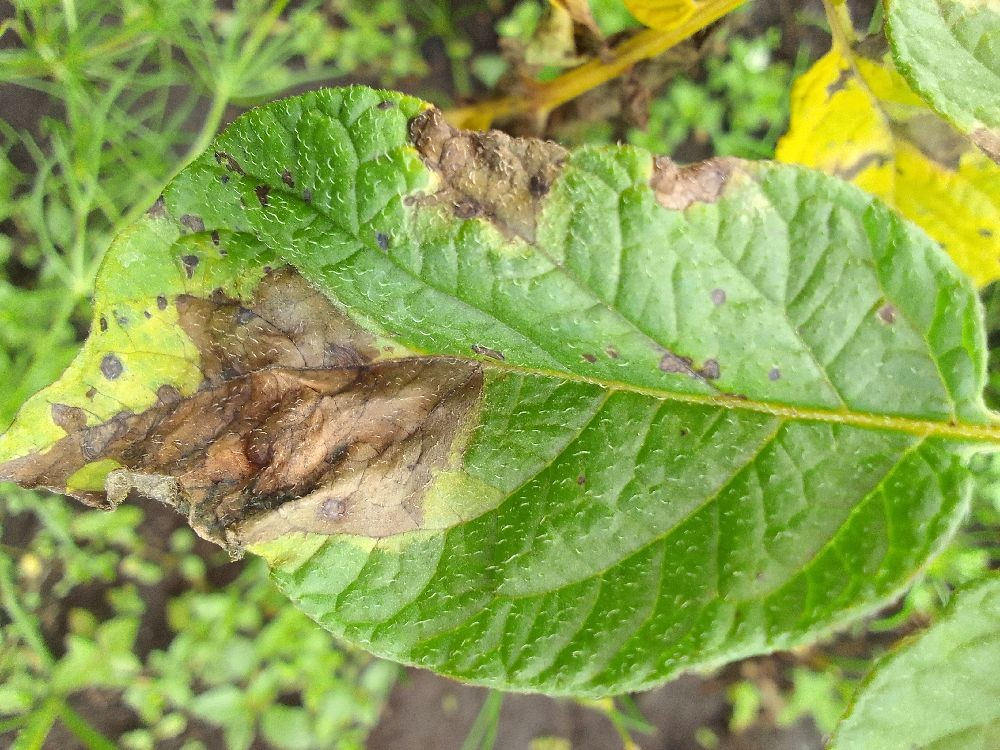late_blight: (314, 0, 999, 261), (479, 566, 979, 750), (350, 651, 502, 750)
